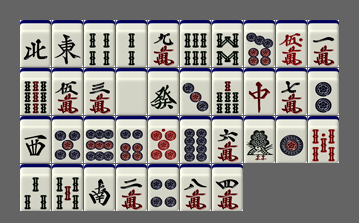0m: (276, 20, 307, 67)
0p: (148, 116, 179, 163)
0s: (308, 116, 339, 163)
1m: (308, 20, 339, 67)
1p: (276, 116, 307, 163)
1s: (244, 116, 275, 163)
1z: (52, 20, 83, 67)
2m: (116, 164, 147, 211)
2p: (308, 68, 339, 115)
2s: (116, 20, 147, 67)
2z: (84, 164, 115, 211)
3m: (84, 68, 115, 115)
3p: (180, 68, 211, 115)
3s: (20, 164, 51, 211)
3z: (20, 116, 51, 163)
4m: (212, 164, 243, 211)
4p: (148, 164, 179, 211)
4s: (84, 20, 115, 67)
4z: (20, 20, 51, 67)
5m: (52, 68, 83, 115)
5p: (52, 116, 83, 163)
5s: (52, 164, 83, 211)
5z: (116, 68, 147, 115)
6m: (212, 116, 243, 163)
6p: (116, 116, 147, 163)
6s: (180, 20, 211, 67)
6z: (148, 68, 179, 115)
7m: (276, 68, 307, 115)
7p: (244, 20, 275, 67)
7s: (212, 68, 243, 115)
7z: (244, 68, 275, 115)
8m: (180, 164, 211, 211)
8p: (180, 116, 211, 163)
8s: (212, 20, 243, 67)
9m: (148, 20, 179, 67)
9p: (84, 116, 115, 163)
9s: (20, 68, 51, 115)
